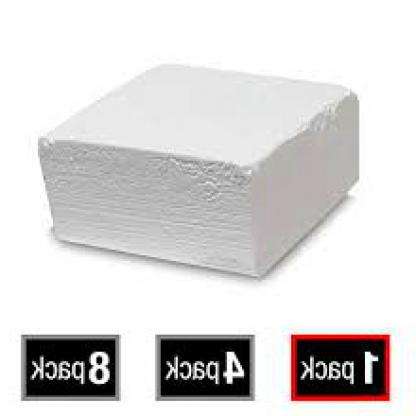Sedimentary_Chalk: (34, 51, 380, 276)
